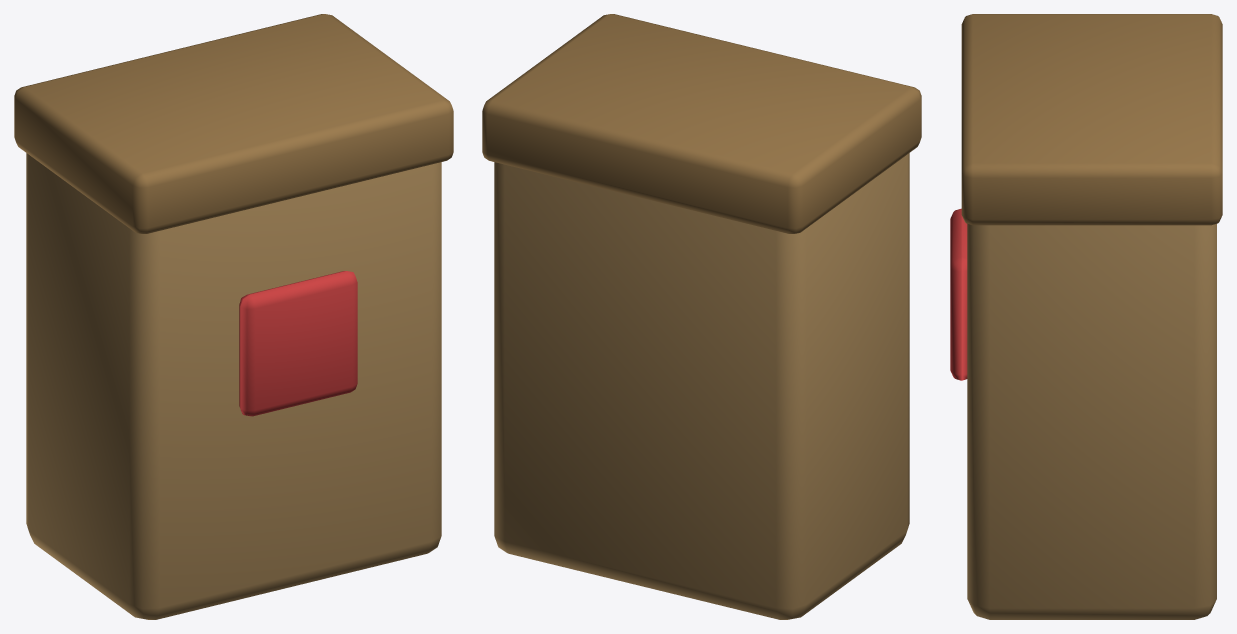
Rendered from food_bag.glb.
The picture shows the model from 3 angles, left to right: view 1: azimuth 30°, elevation 25°; view 2: azimuth 150°, elevation 25°; view 3: azimuth 270°, elevation 25°; orthographic projection.
Visible parts, largest first — view 1: food_bag; view 2: food_bag; view 3: food_bag.
Boxes of the visible parts, box(x1,y1,x2,y2) form: food_bag: box(14, 14, 453, 619); food_bag: box(482, 14, 921, 619); food_bag: box(950, 14, 1222, 619).
Size of the model in its own units: 0.33 by 0.45 by 0.24.
